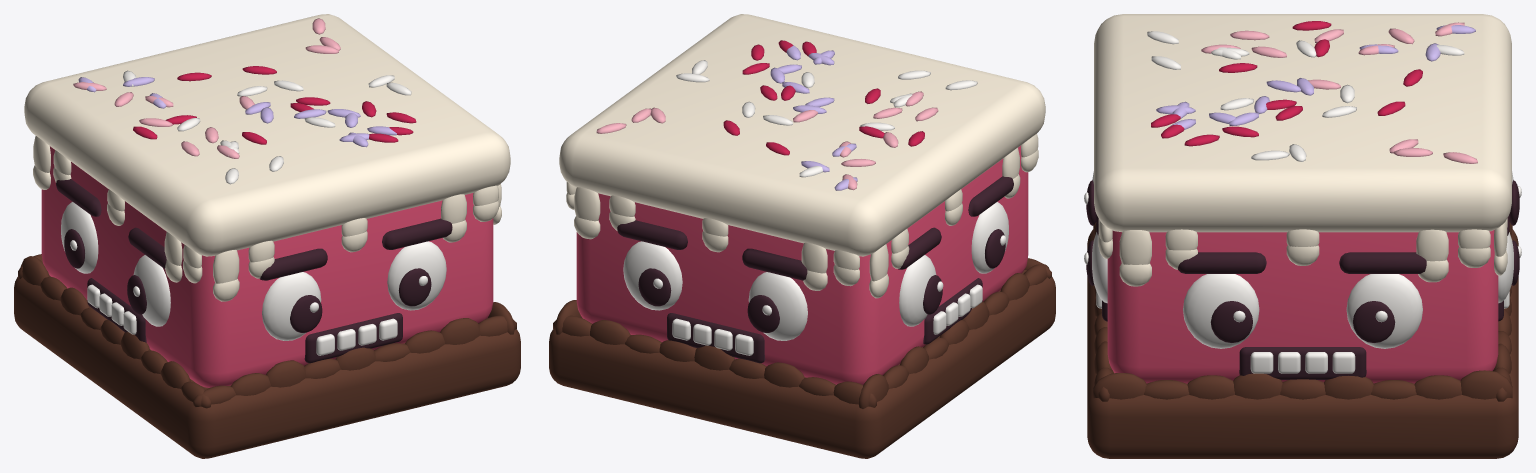
The model's file is enemy_stomper.glb.
The picture shows the model from 3 angles, left to right: view 1: azimuth 30°, elevation 25°; view 2: azimuth 150°, elevation 25°; view 3: azimuth 270°, elevation 25°; orthographic projection. The views are drawn at different scales.
Parts seen in each view (by area): view 1: enemy_stomper; view 2: enemy_stomper; view 3: enemy_stomper.
Boxes of the visible parts, box(x1,y1,x2,y2) form: enemy_stomper: box(14, 14, 520, 458); enemy_stomper: box(549, 14, 1055, 458); enemy_stomper: box(1084, 14, 1521, 458).
Size of the model in its own units: 1.93 by 1.4 by 1.93.
